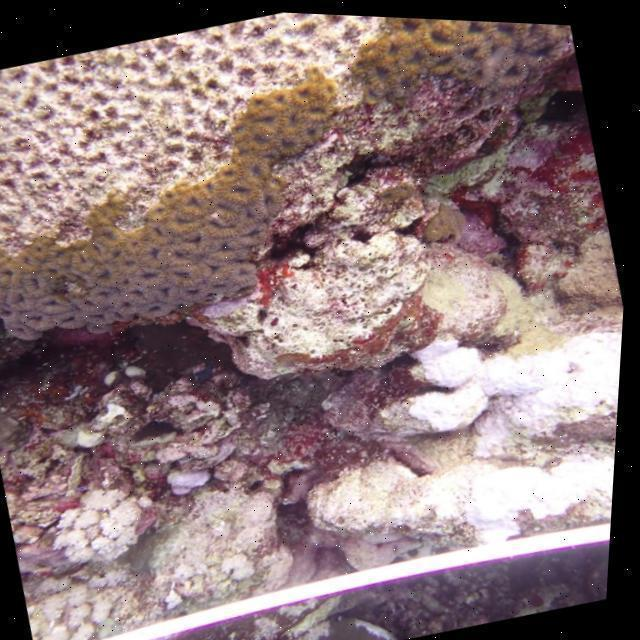Bleached Coral: (413, 292, 628, 462), (444, 422, 621, 559), (32, 454, 164, 601), (27, 550, 216, 640), (150, 450, 234, 504)
